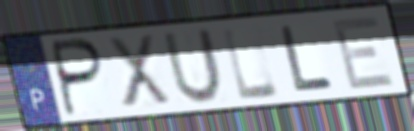E: (329, 13, 398, 92)
L: (220, 25, 283, 103), (277, 23, 338, 94)
P: (51, 37, 108, 119)
U: (160, 26, 225, 106)
X: (105, 32, 175, 109)
